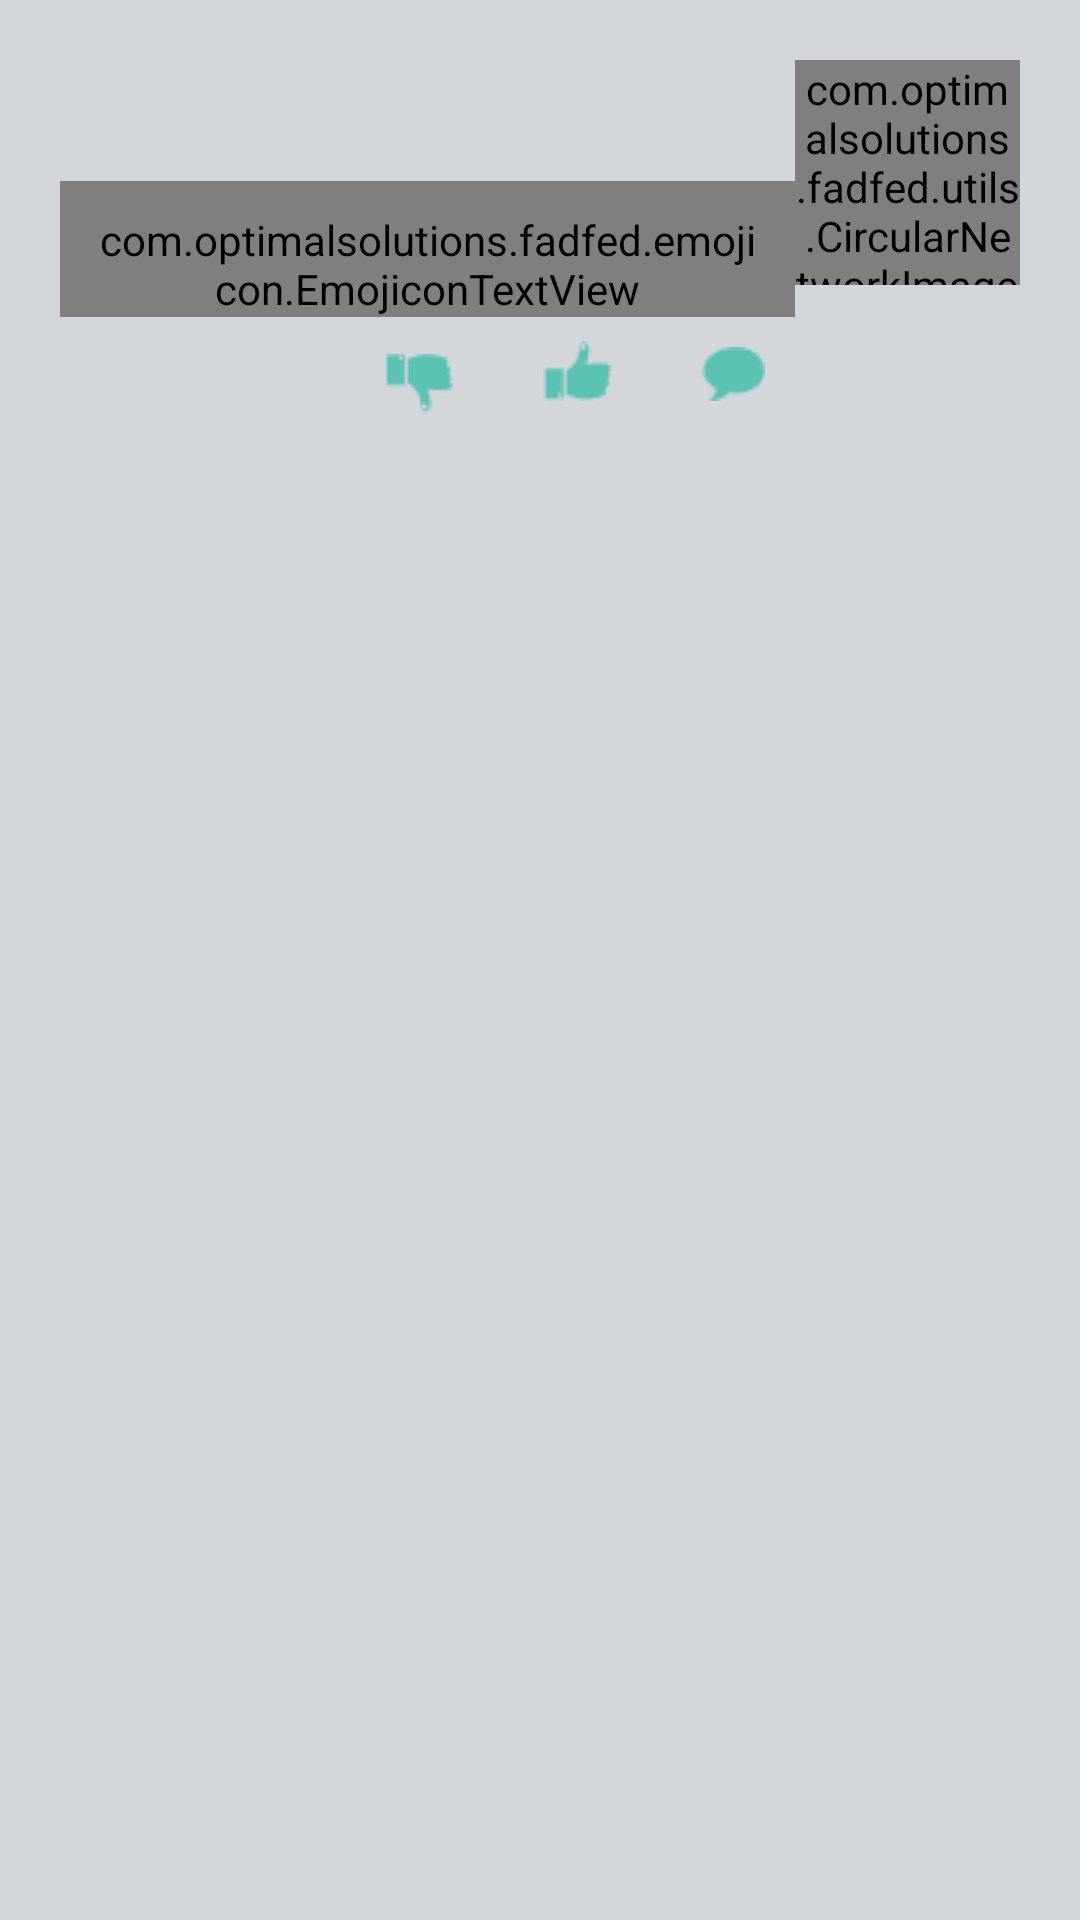

Point at icon controls on the screen. Image size 1080px x 1920px, points as (x=x, y=y).
comments: (x=733, y=374)
like unpushed: (x=577, y=371)
unlike unpushed: (x=419, y=383)
